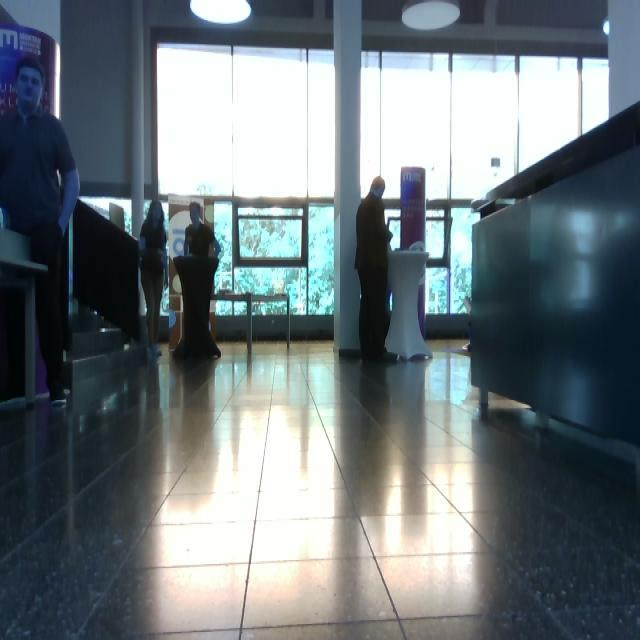light bulb: (404, 1, 461, 30), (191, 1, 252, 24), (604, 19, 611, 35), (491, 158, 501, 169)
person: (1, 58, 80, 402), (356, 178, 397, 362), (140, 201, 169, 358)
pillar: (335, 1, 362, 358), (402, 168, 426, 251), (419, 276, 426, 339)
staircase: (472, 103, 640, 447)
step: (66, 299, 150, 412), (364, 1, 407, 22)
tiled floor: (1, 341, 640, 639)
window: (364, 53, 609, 315), (157, 44, 335, 315), (364, 53, 609, 200), (159, 44, 335, 199), (159, 47, 335, 197), (255, 304, 284, 314), (219, 306, 244, 314)
